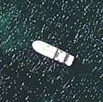ship: (30, 39, 77, 69)
